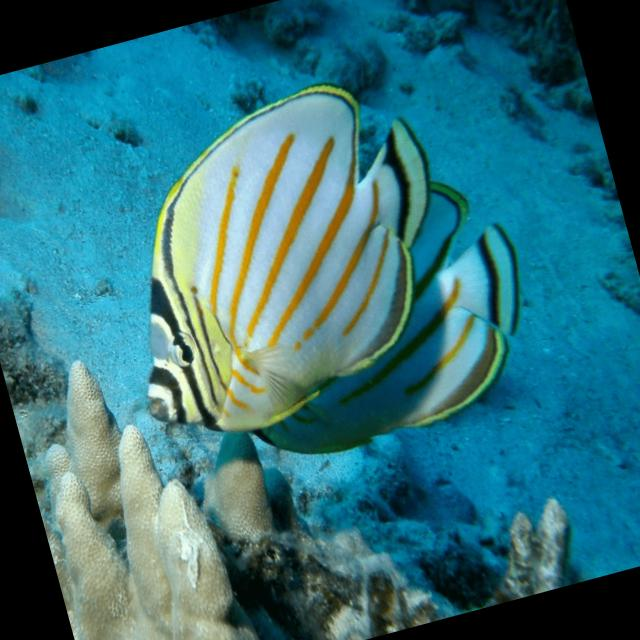ButterflyFish: (78, 66, 476, 452)
